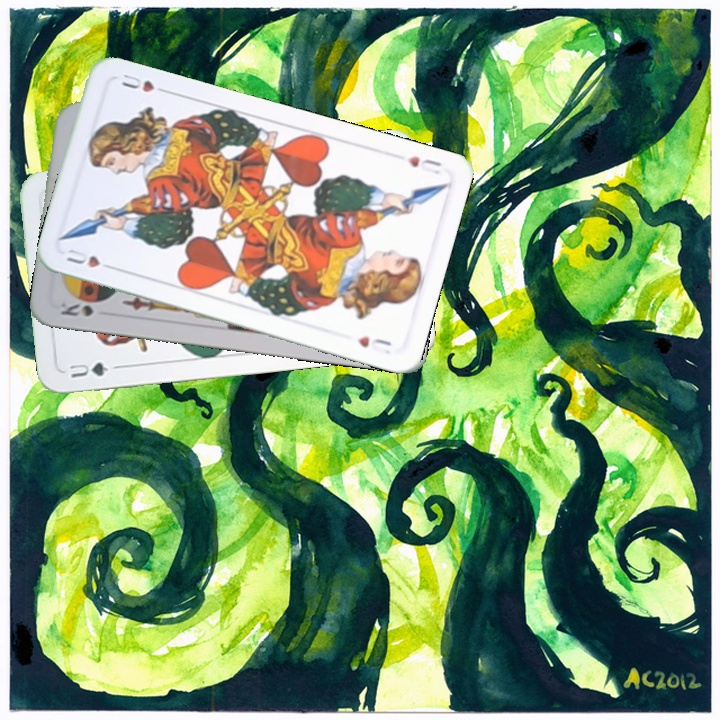GU: (65, 357, 121, 381)
HU: (62, 244, 119, 273), (403, 151, 444, 177)
SK: (56, 298, 96, 319)
